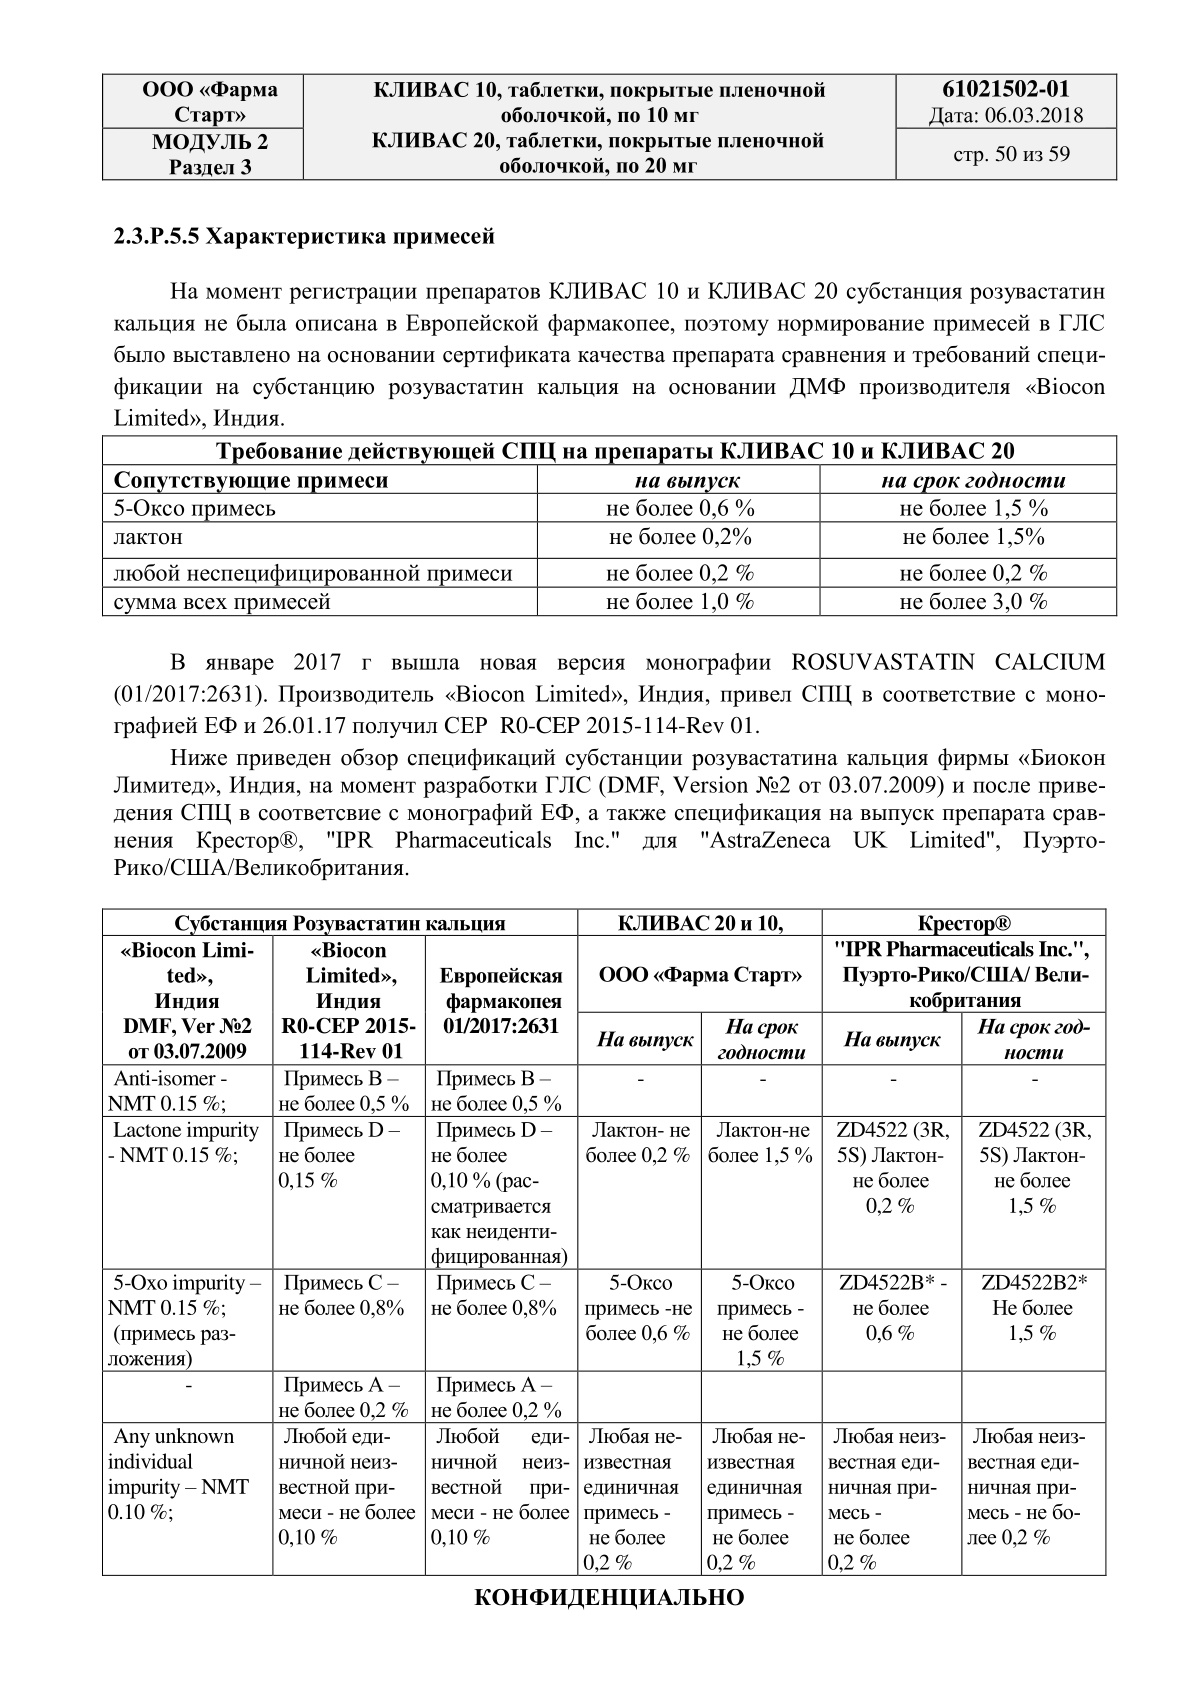merged_cells: (101, 906, 1109, 1577), (101, 434, 1118, 618), (101, 72, 1118, 182)
